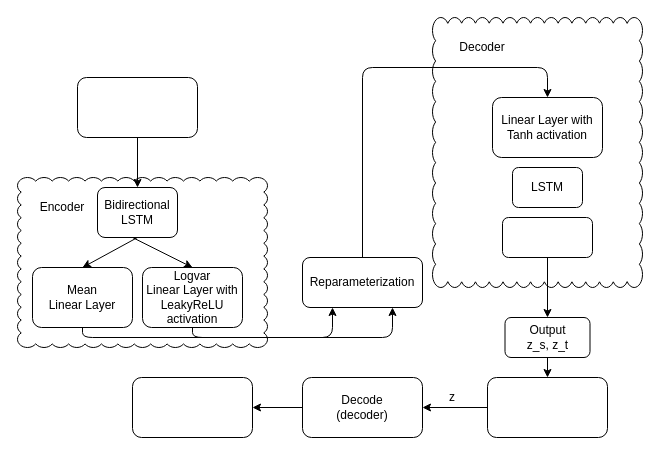
This 660x455 diagram has some shape labels left out. The shapes that lost their labels are listed below. From the top down, each one's centre as x and y in pixels, then its label:
At pixel 137 107: "Input x_s, x_t".
At pixel 547 237: "Linear Layer".
At pixel 192 407: "Output (blended track)".
At pixel 547 407: "Linear Interpolation (torch.lerp)".
